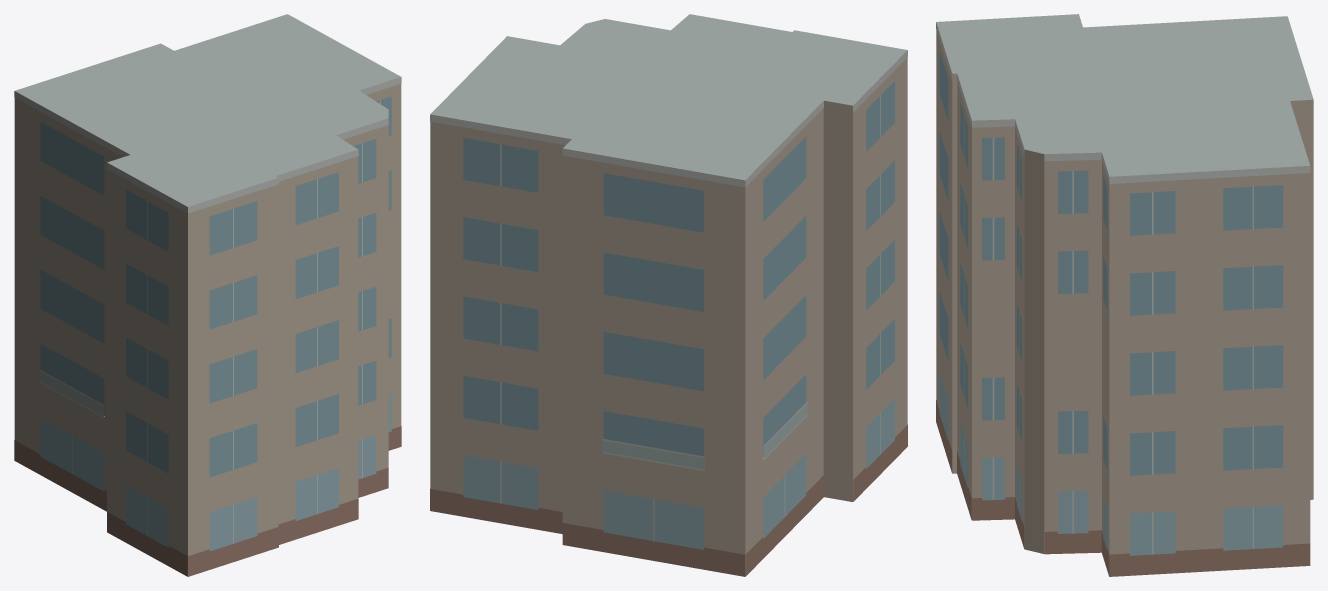
Rendered from survey-upis-32702247.glb.
3 renders of one model, left to right at view 1: azimuth 30°, elevation 25°; view 2: azimuth 150°, elevation 25°; view 3: azimuth 270°, elevation 25°, orthographic. The views are drawn at different scales.
Parts seen in each view (by area): view 1: survey-upis-32702247.tmp; view 2: survey-upis-32702247.tmp; view 3: survey-upis-32702247.tmp.
Part boxes in pixels (<box>): survey-upis-32702247.tmp: <box>14,14,401,576</box>; survey-upis-32702247.tmp: <box>430,14,907,576</box>; survey-upis-32702247.tmp: <box>936,14,1313,576</box>.
Bounding box in the file's own units: 11.93 × 13.65 × 11.69.
